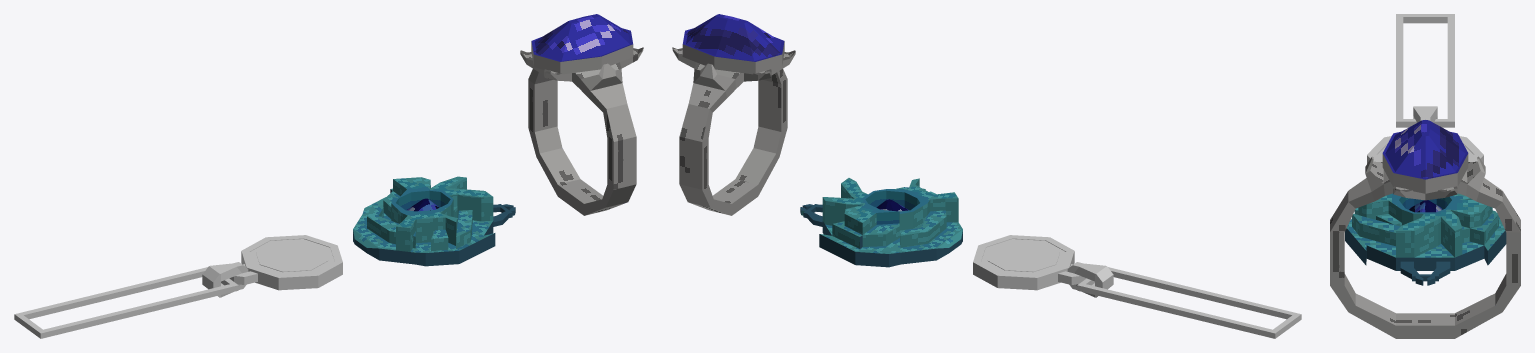
File: Items.fbx
3 views of the same model, side by side, from view 1: azimuth 30°, elevation 25°; view 2: azimuth 150°, elevation 25°; view 3: azimuth 270°, elevation 25° (orthographic). The views are drawn at different scales.
Parts seen in each view (by area): view 1: Brazalete, Talizman, Amuleto y chain; view 2: Brazalete, Talizman, Amuleto y chain; view 3: Brazalete, Talizman, Amuleto y chain.
Part boxes in pixels (bbox=[...]): Brazalete: bbox=[520, 14, 643, 215]; Talizman: bbox=[353, 176, 515, 266]; Amuleto y chain: bbox=[14, 235, 342, 338]; Brazalete: bbox=[672, 14, 795, 215]; Talizman: bbox=[800, 178, 962, 267]; Amuleto y chain: bbox=[973, 235, 1301, 338]; Brazalete: bbox=[1330, 120, 1520, 338]; Talizman: bbox=[1345, 193, 1506, 285]; Amuleto y chain: bbox=[1367, 14, 1483, 163].
Bounding box in the file's own units: 530 × 155 × 130.
